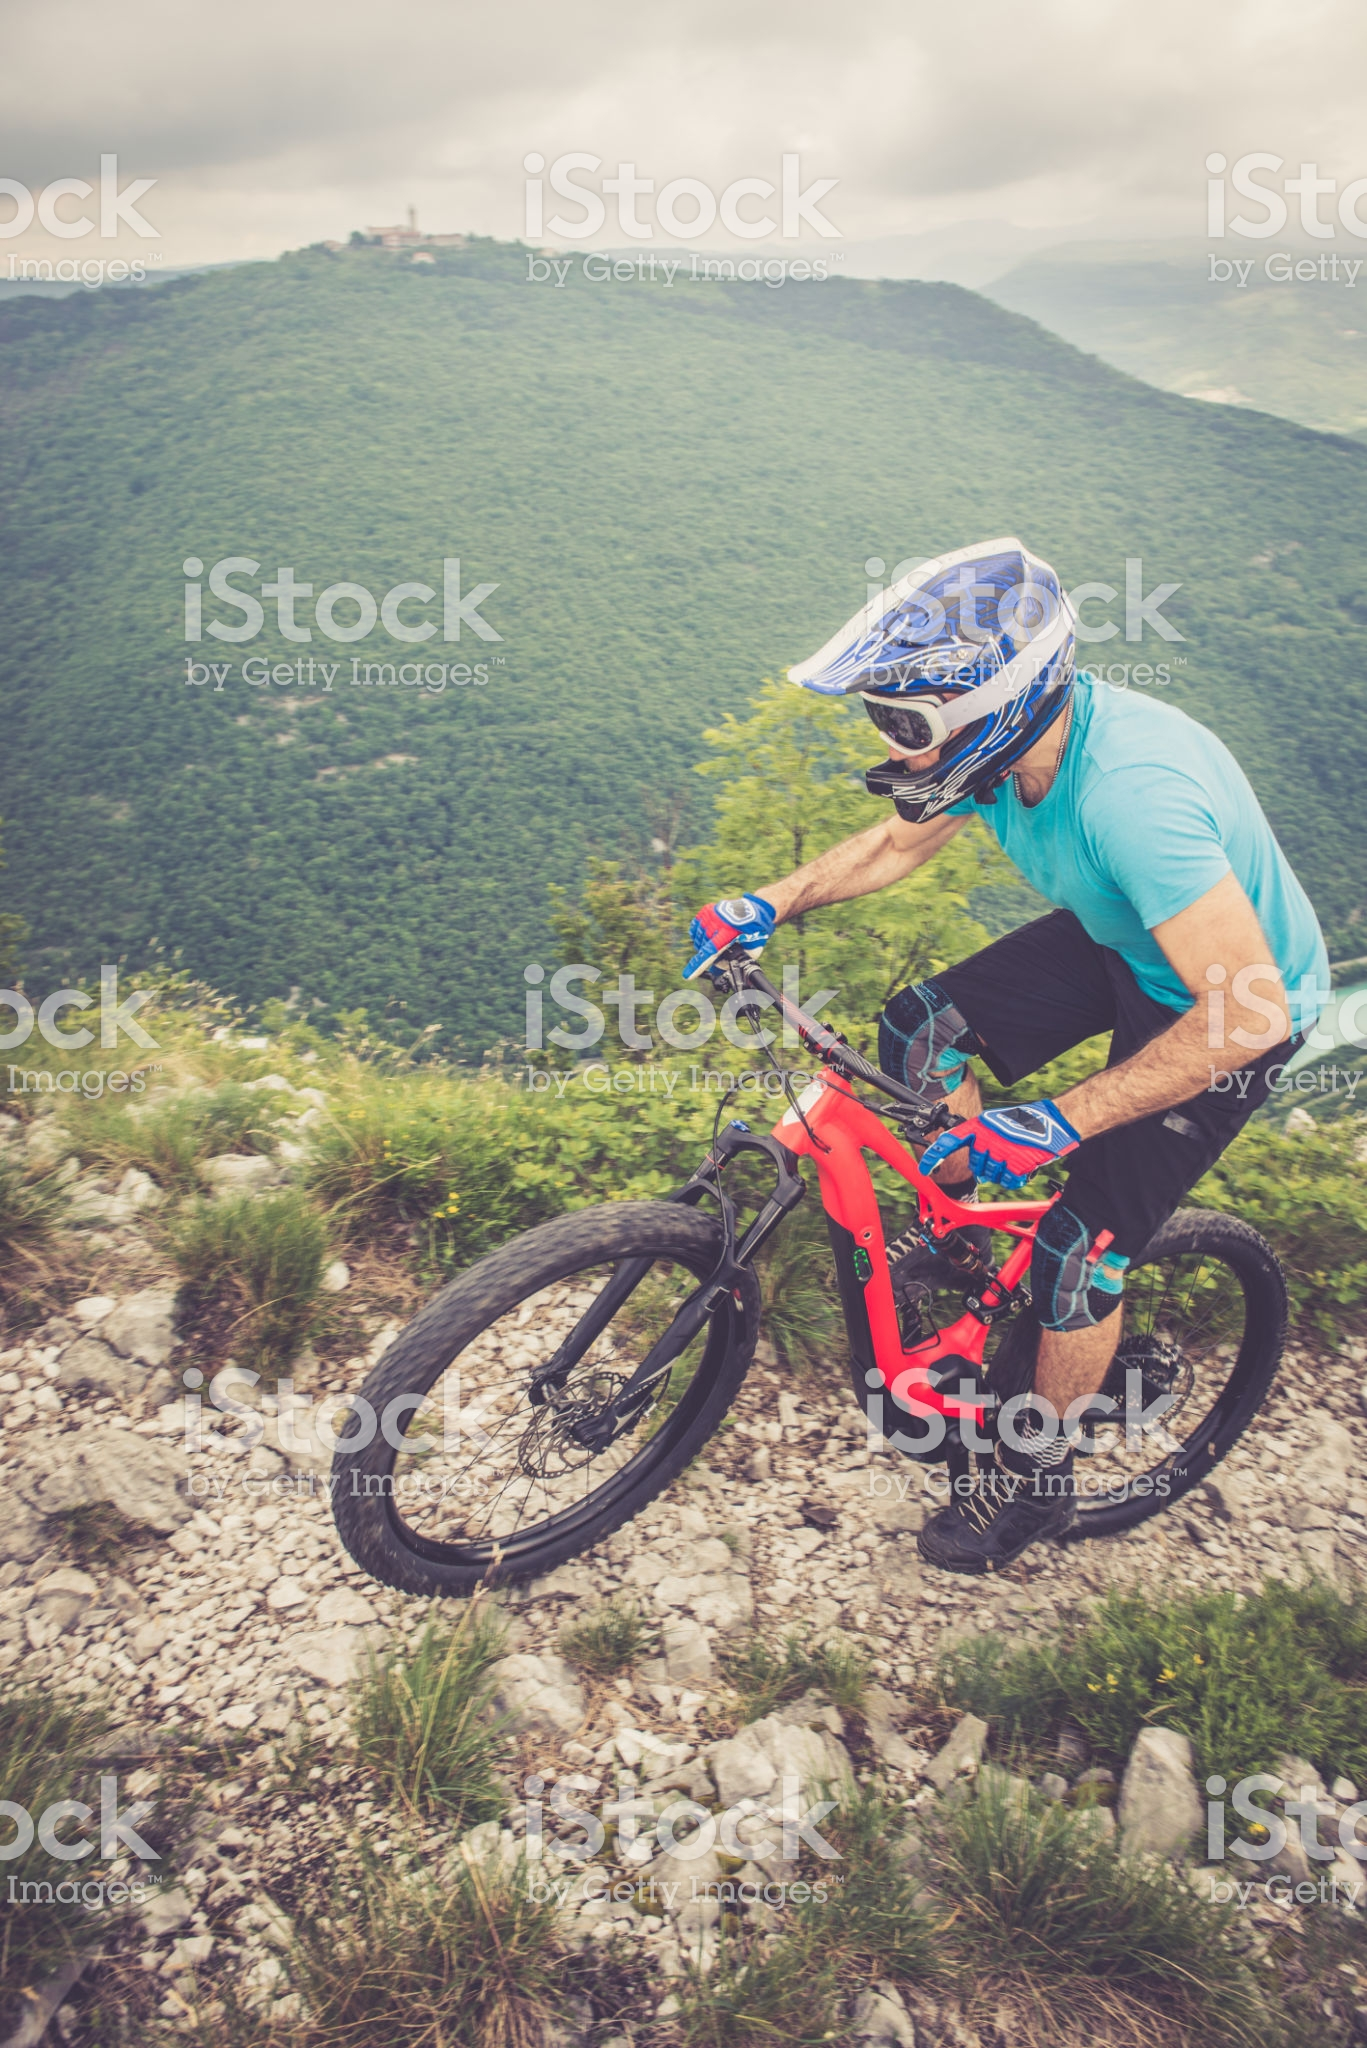helmet: (803, 541, 1137, 788)
